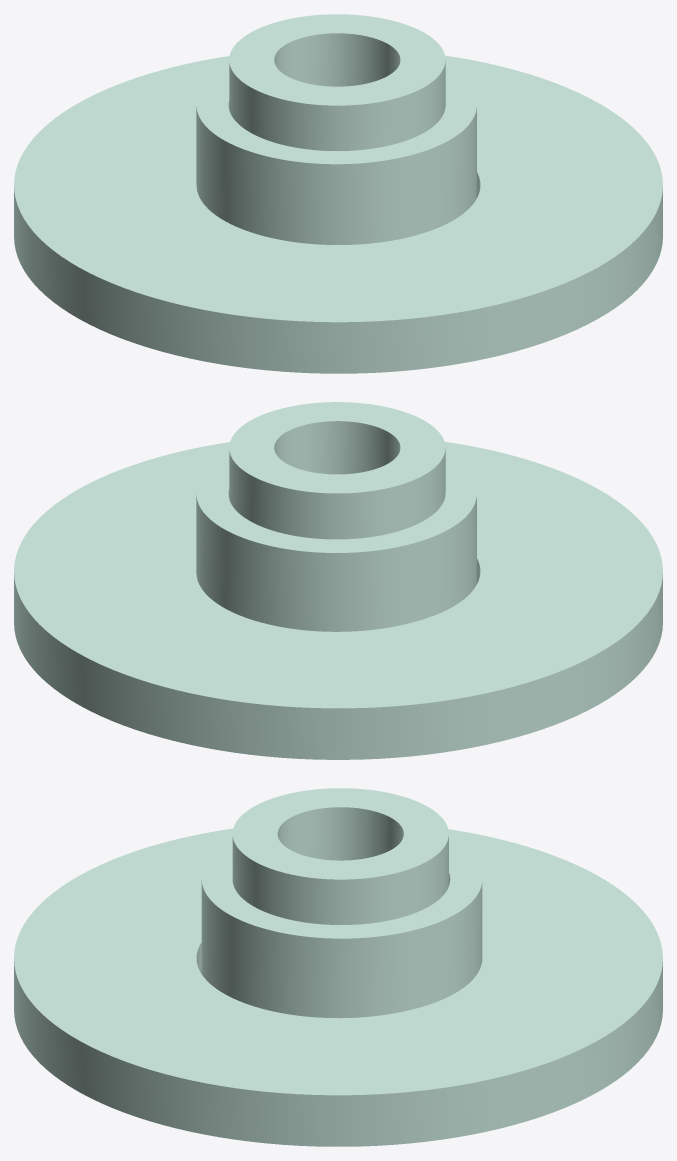
File: expected.gltf
3 views of the same model, one above another, from view 1: azimuth 30°, elevation 25°; view 2: azimuth 150°, elevation 25°; view 3: azimuth 270°, elevation 25° (orthographic).
Parts seen in each view (by area): view 1: Renderer Node; view 2: Renderer Node; view 3: Renderer Node.
Part boxes in pixels (bbox=[...]): Renderer Node: bbox=[14, 14, 662, 373]; Renderer Node: bbox=[14, 402, 662, 759]; Renderer Node: bbox=[14, 788, 662, 1146].
Bounding box in the file's own units: 1.52 × 0.4531 × 1.52.
